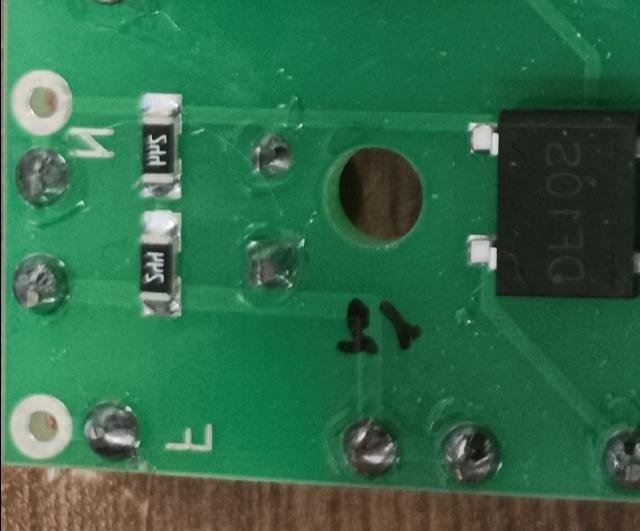chip-resistor: (137, 90, 183, 201), (138, 208, 182, 318)
ic: (459, 105, 640, 299)
